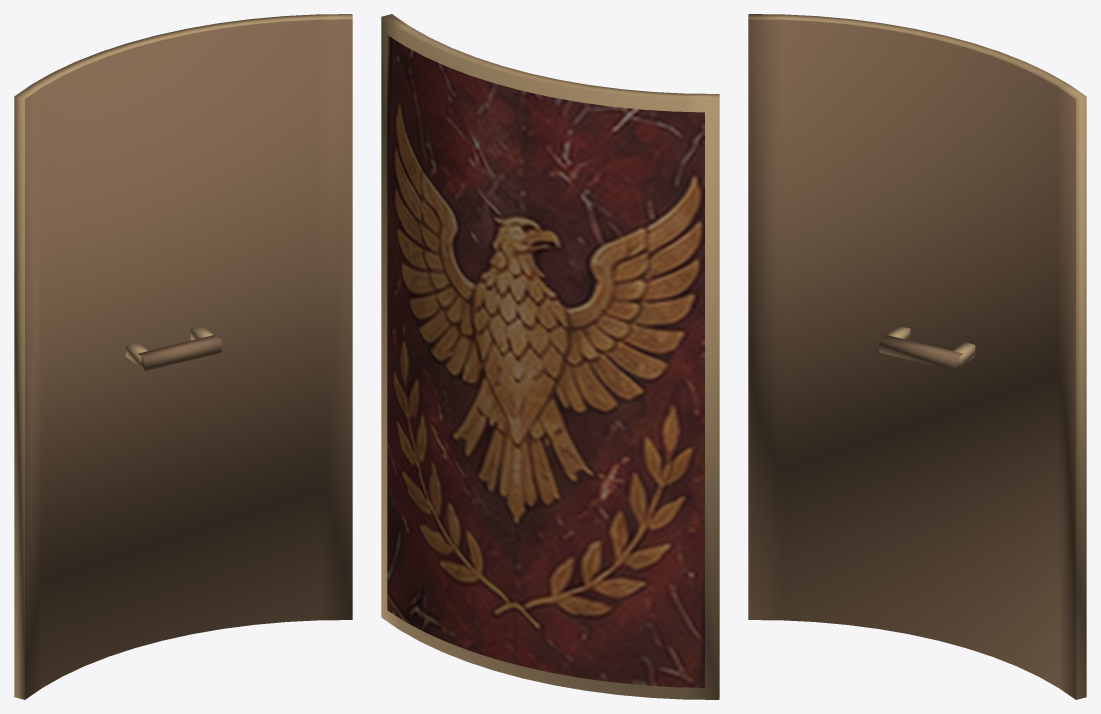
File: scutum_titus.glb
3 views of the same model, side by side, from view 1: azimuth 30°, elevation 25°; view 2: azimuth 150°, elevation 25°; view 3: azimuth 330°, elevation 25° (orthographic).
Visible parts, largest first — view 1: scutum_titus; view 2: scutum_titus; view 3: scutum_titus.
Boxes of the visible parts, x1,y1,x2,y2 form: scutum_titus: [14, 14, 352, 699]; scutum_titus: [381, 14, 719, 699]; scutum_titus: [748, 14, 1086, 699].
Size of the model in its own units: 0.6187 by 1.05 by 0.1055.
Materials: 3 (1 with a texture image).
